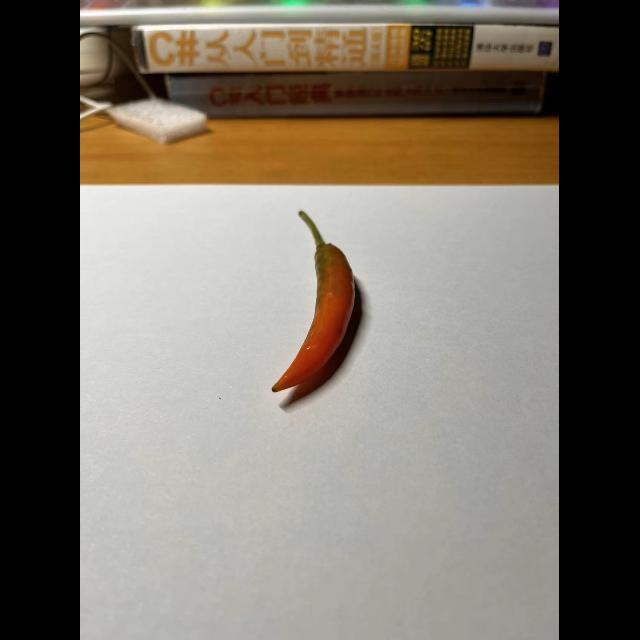chili_pepper: (267, 206, 376, 404)
